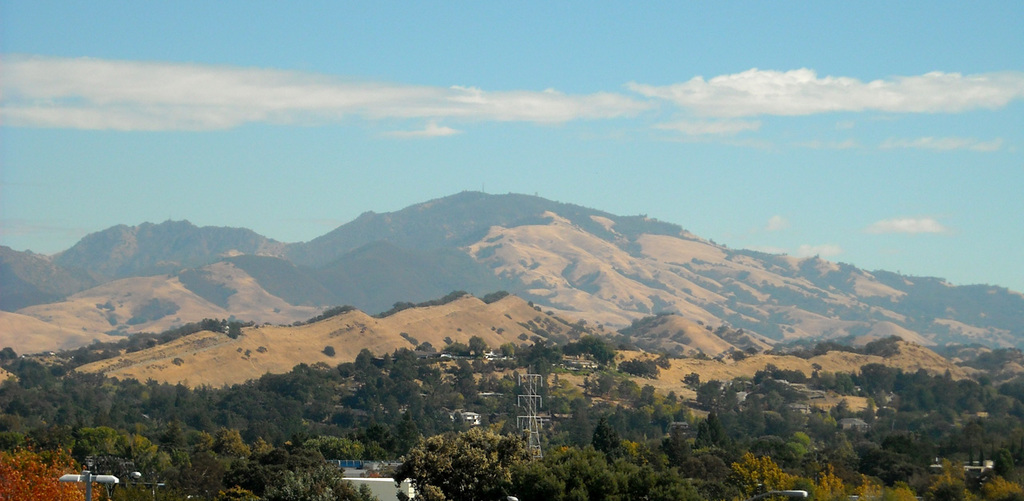Tree: (0, 329, 1023, 500)
